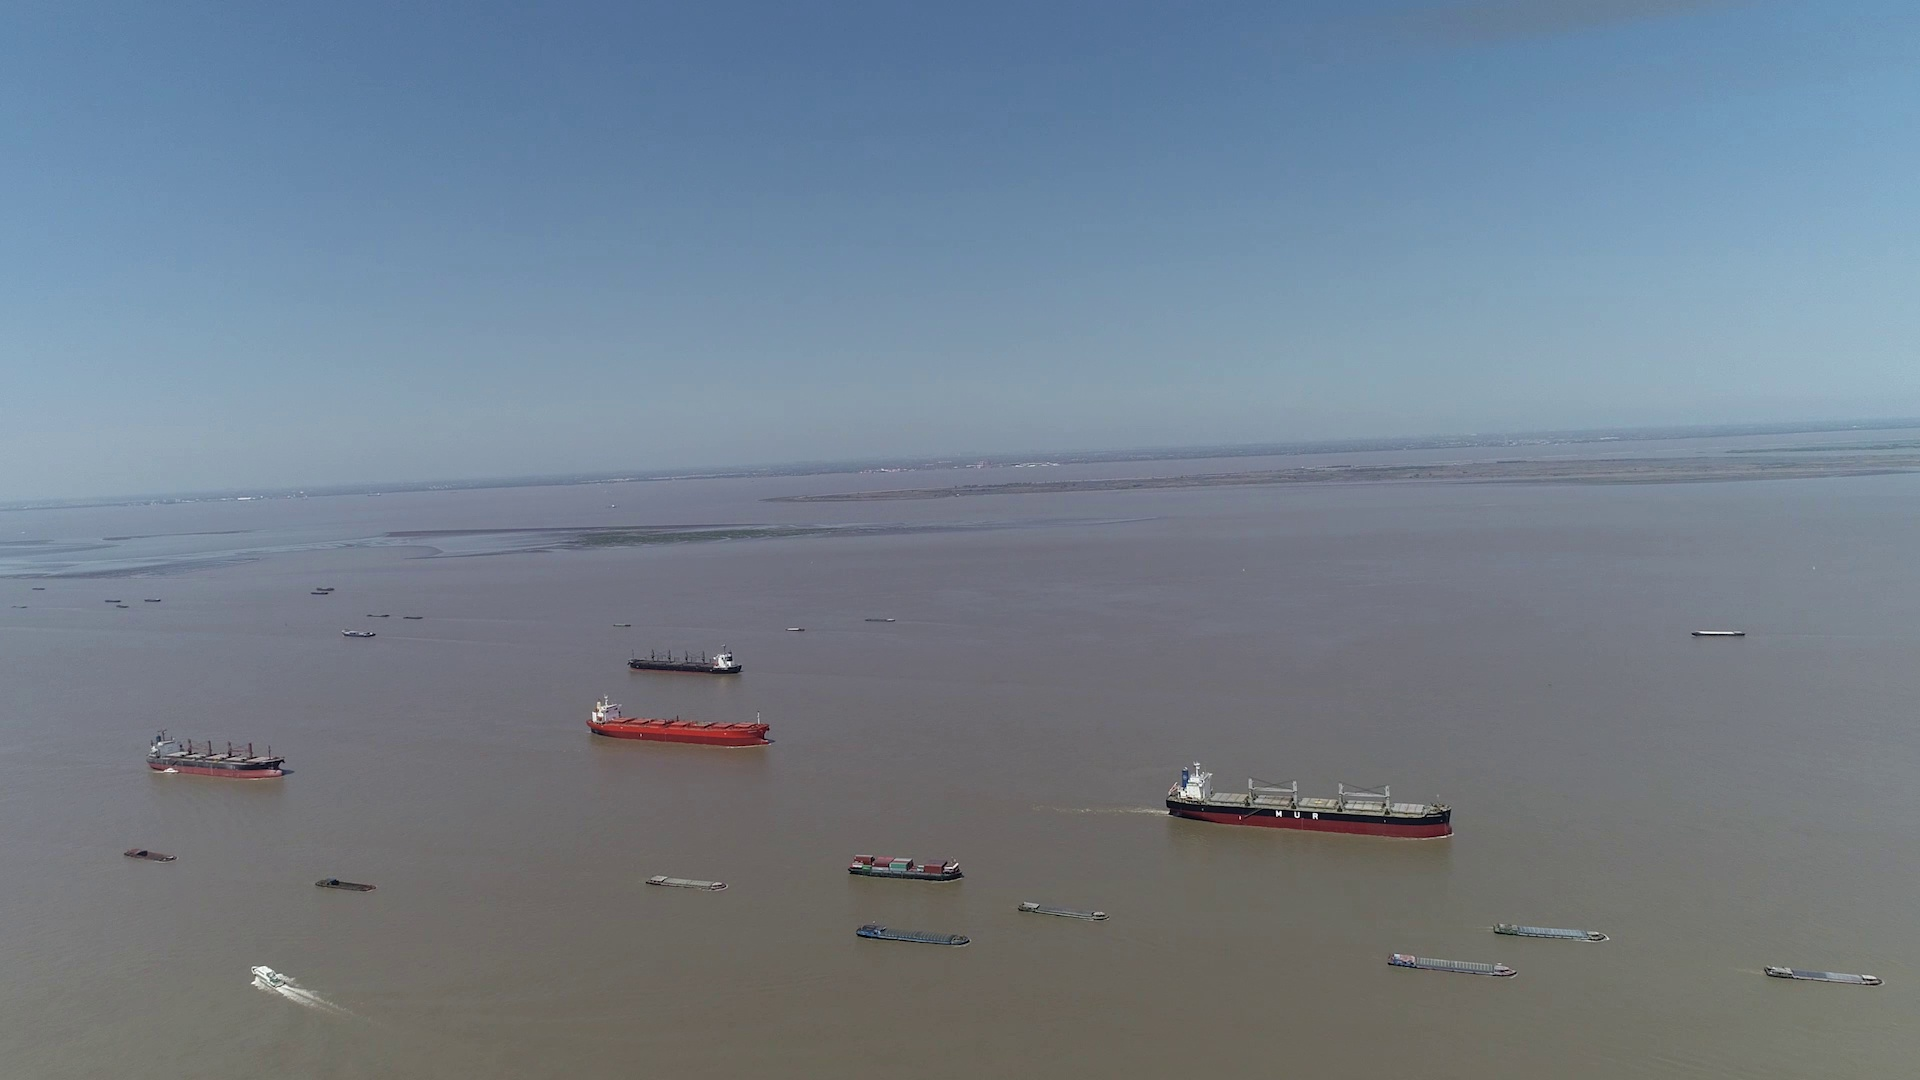ship: (1164, 764, 1452, 837), (585, 698, 769, 746), (150, 731, 281, 777), (1387, 952, 1519, 977), (626, 646, 742, 674), (847, 855, 964, 881), (857, 923, 971, 945), (1764, 964, 1880, 985), (1495, 922, 1604, 942), (1017, 901, 1106, 922), (644, 876, 731, 891), (316, 877, 377, 891), (249, 965, 285, 986), (124, 849, 175, 862), (1691, 626, 1745, 636), (343, 628, 376, 637)
